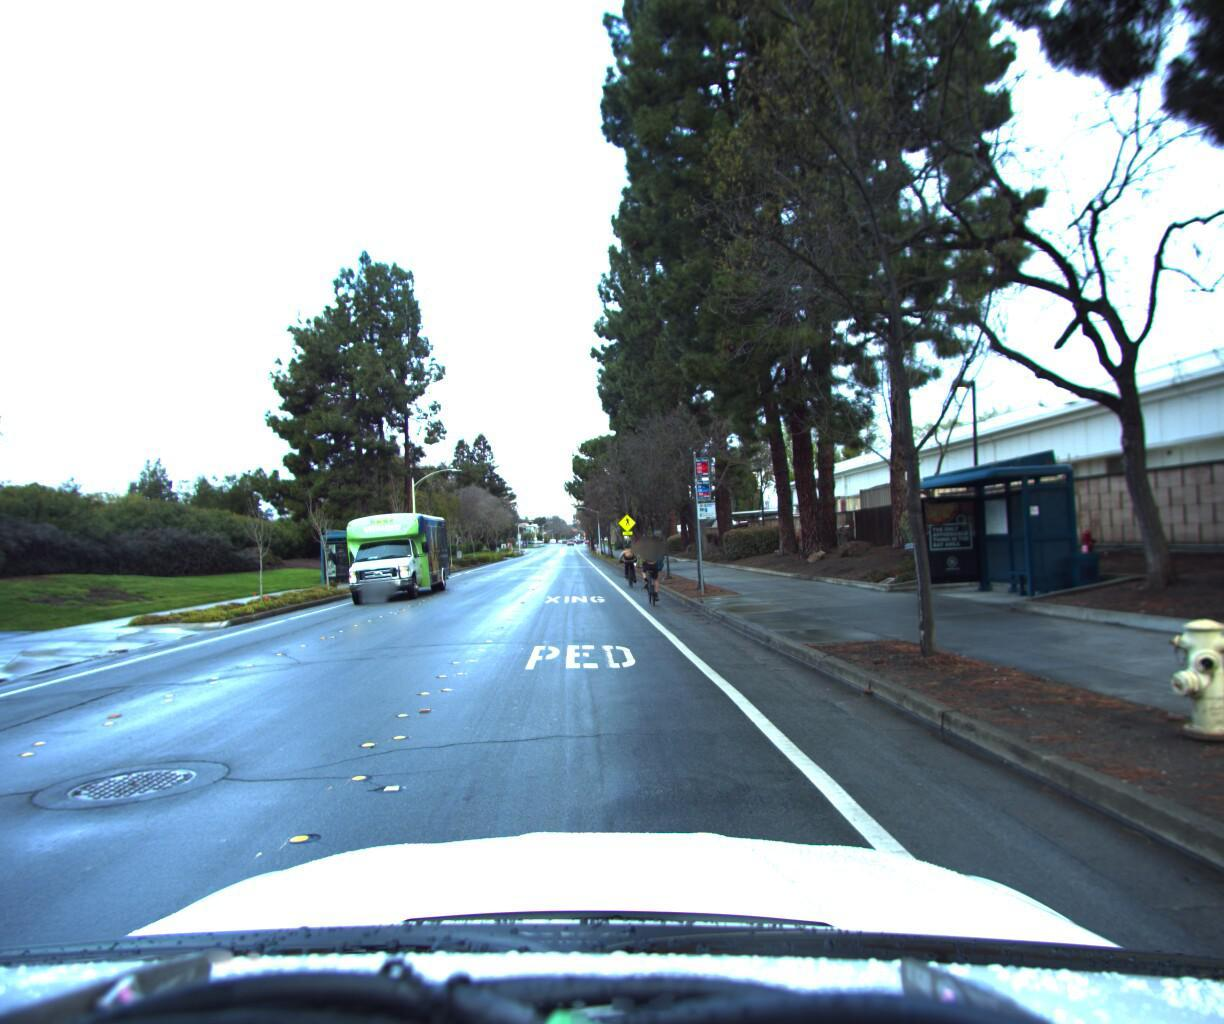bicycle: (631, 534, 672, 606), (614, 538, 642, 586)
bus: (327, 507, 460, 607)
